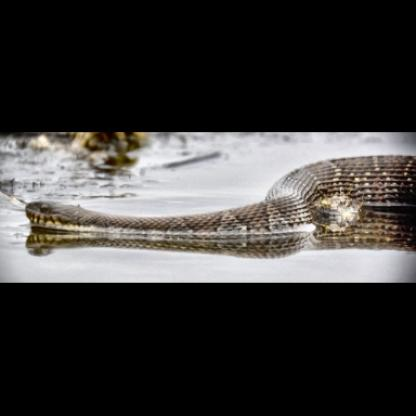Snake: (11, 152, 416, 239)
